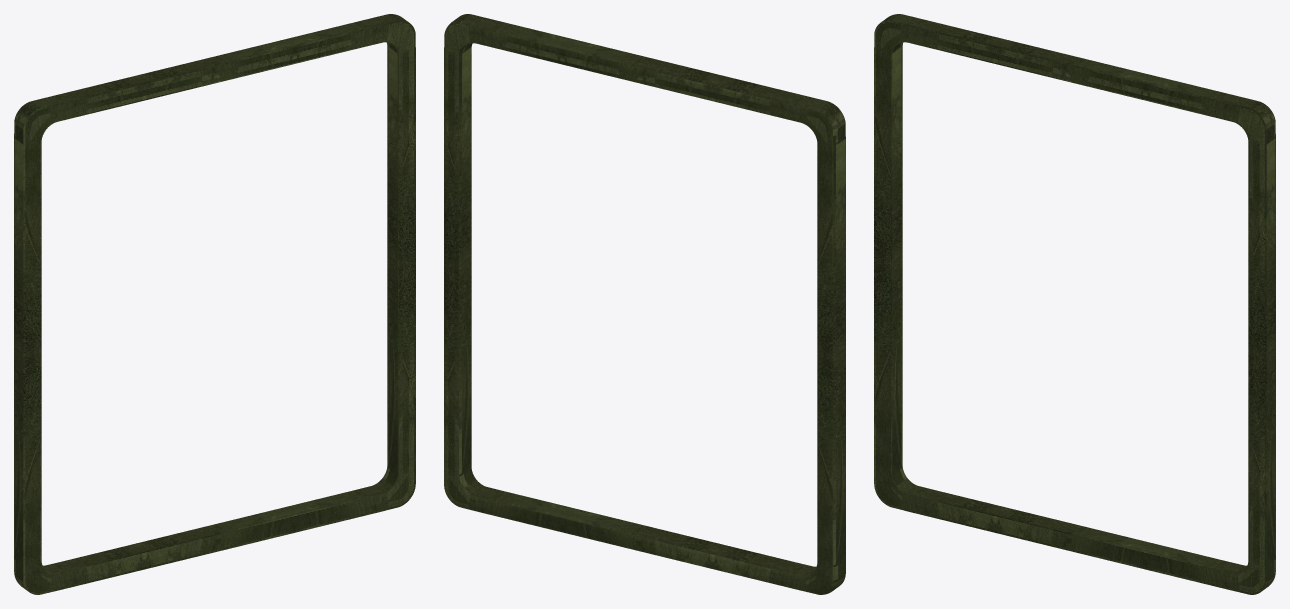
The model's file is frame8.glb.
The picture shows the model from 3 angles, left to right: view 1: azimuth 30°, elevation 25°; view 2: azimuth 150°, elevation 25°; view 3: azimuth 330°, elevation 25°; orthographic projection.
Visible parts, largest first — view 1: Frame8; view 2: Frame8; view 3: Frame8.
Boxes of the visible parts, x1,y1,x2,y2 form: Frame8: (14, 14, 415, 594); Frame8: (444, 14, 845, 594); Frame8: (874, 14, 1275, 594).
Size of the model in its own units: 2.07 by 2.46 by 0.1109.
1 material, 1 textured.
